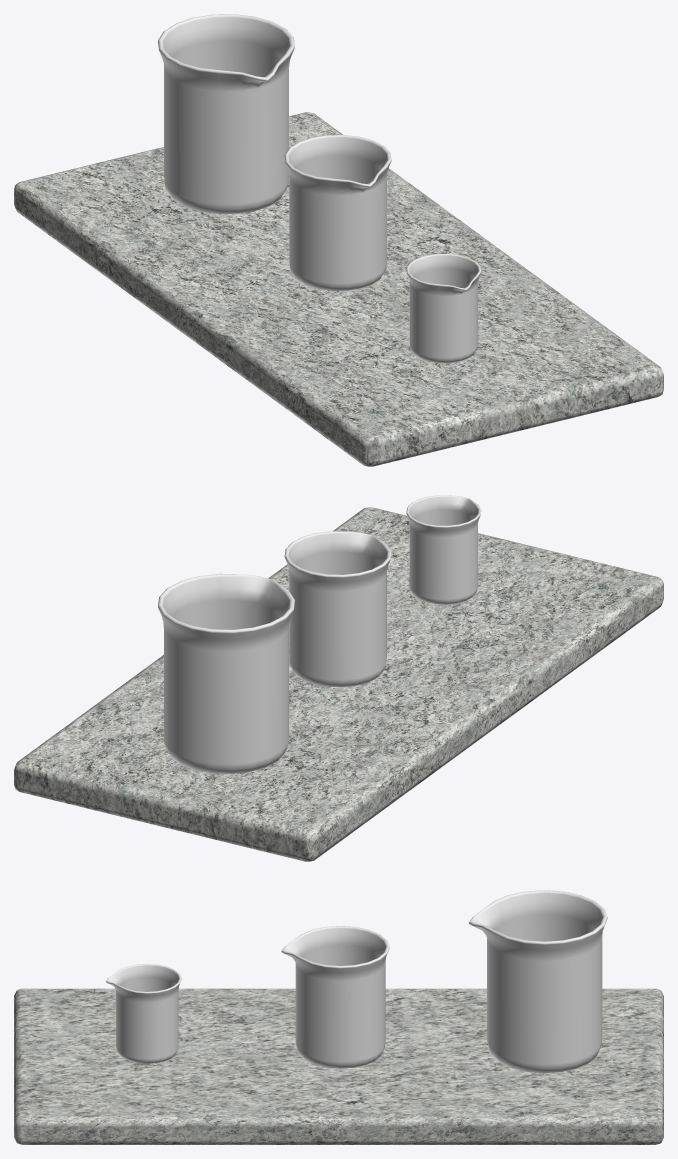
The model's file is beakers.glb.
3 renders of one model, top to bottom at view 1: azimuth 30°, elevation 25°; view 2: azimuth 150°, elevation 25°; view 3: azimuth 270°, elevation 25°, orthographic. The views are drawn at different scales.
Visible parts, largest first — view 1: Cube, Bequer_500mL, Bequer_250mL, Bequer_100mL; view 2: Cube, Bequer_500mL, Bequer_250mL, Bequer_100mL; view 3: Cube, Bequer_500mL, Bequer_250mL, Bequer_100mL.
Part boxes in pixels (<box>): Cube: <box>14,112,663,466</box>; Bequer_500mL: <box>158,14,294,213</box>; Bequer_250mL: <box>284,135,391,290</box>; Bequer_100mL: <box>406,254,481,362</box>; Cube: <box>14,507,663,861</box>; Bequer_500mL: <box>158,573,294,773</box>; Bequer_250mL: <box>284,531,391,687</box>; Bequer_100mL: <box>406,495,481,604</box>; Cube: <box>14,988,663,1144</box>; Bequer_500mL: <box>468,890,607,1072</box>; Bequer_250mL: <box>281,926,389,1068</box>; Bequer_100mL: <box>106,964,181,1063</box>.
Bounding box in the file's own units: 0.3149 × 0.18 × 0.6436.
2 materials, 2 textured.
